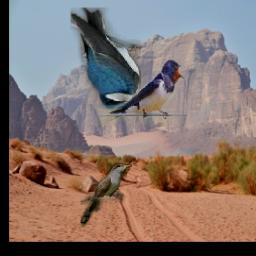Cuckoo: (80, 164, 131, 228)
Swallow: (71, 8, 141, 110), (96, 59, 185, 125)
